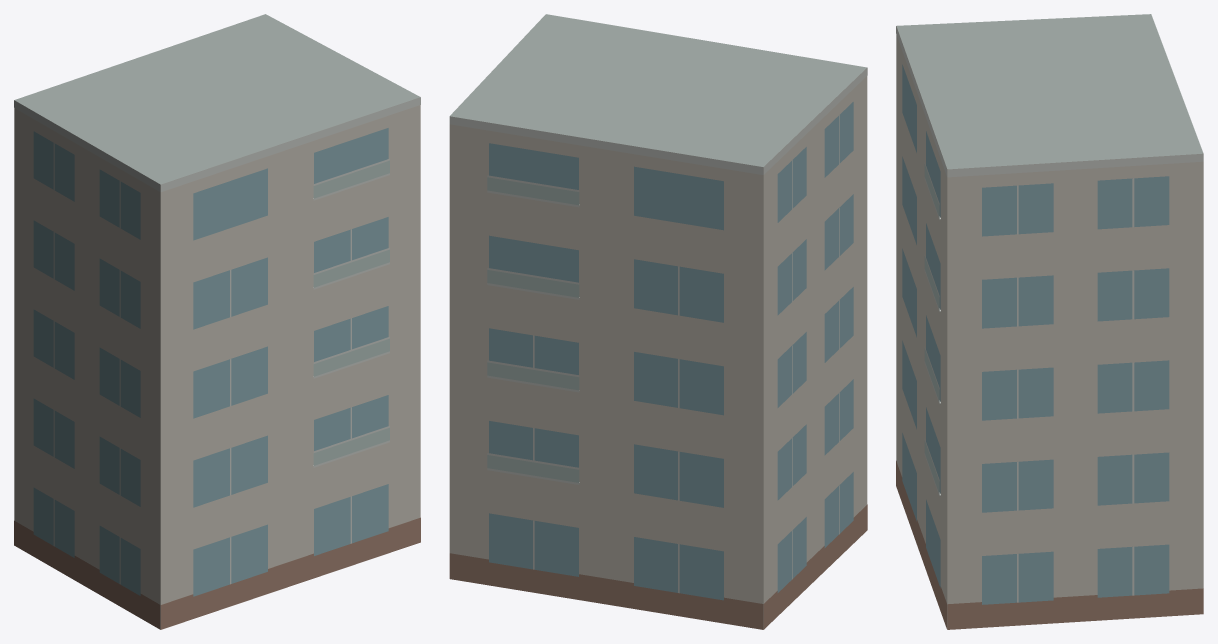
The model's file is survey-upis-32747965.glb.
3 views of the same model, side by side, from view 1: azimuth 30°, elevation 25°; view 2: azimuth 150°, elevation 25°; view 3: azimuth 270°, elevation 25° (orthographic). The views are drawn at different scales.
Visible parts, largest first — view 1: survey-upis-32747965.tmp; view 2: survey-upis-32747965.tmp; view 3: survey-upis-32747965.tmp.
Part boxes in pixels (x1=…): survey-upis-32747965.tmp: x1=14, y1=14, x2=420, y2=629; survey-upis-32747965.tmp: x1=449, y1=14, x2=867, y2=629; survey-upis-32747965.tmp: x1=896, y1=14, x2=1203, y2=629.
Bounding box in the file's own units: 10.22 × 14.1 × 8.54.
